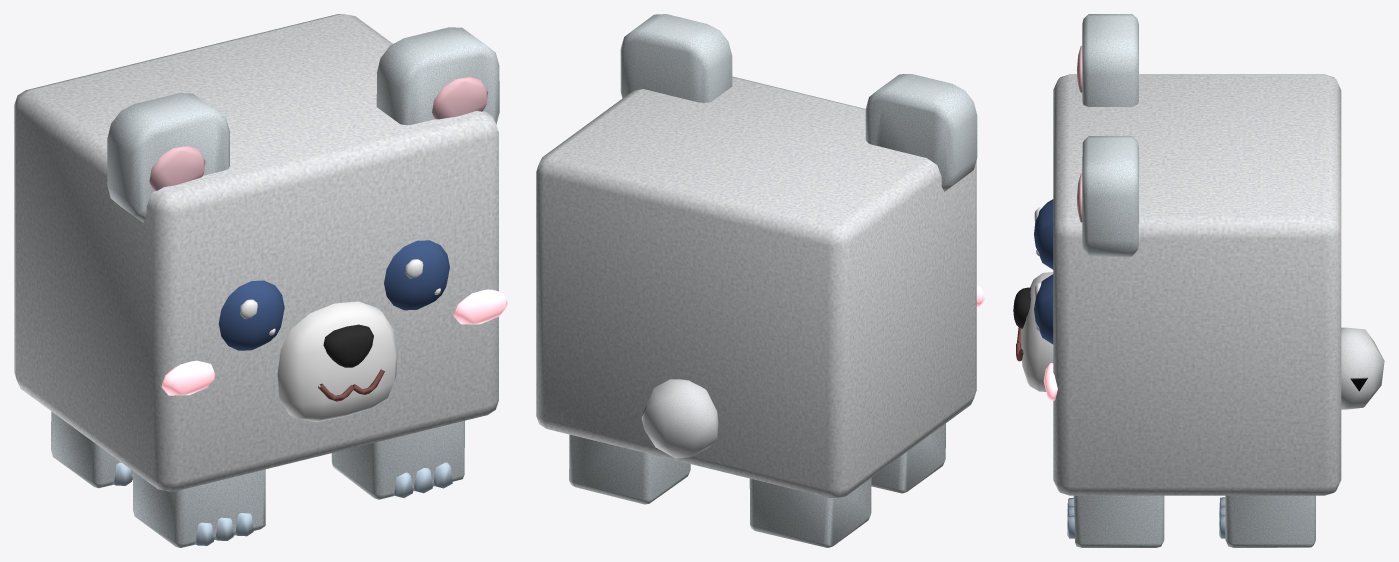
Rendered from Bear_Eisbaer.fbx.
3 renders of one model, left to right at view 1: azimuth 30°, elevation 25°; view 2: azimuth 150°, elevation 25°; view 3: azimuth 270°, elevation 25°, orthographic. The views are drawn at different scales.
Visible parts, largest first — view 1: Eisbaer_body, Eisbaer_ears, Eisbaer_feet, Eisbaer_muzzle, Eisbaer_eyes, Bear_Eisbaer, Eisbaer_toes, Bear_Eisbaer_cute_innerear_-1, Eisbaer_nose, Bear_Eisbaer_cute_blush_-1; view 2: Eisbaer_body, Eisbaer_ears, Eisbaer_feet, Bear_Eisbaer_cute_tail; view 3: Eisbaer_body, Eisbaer_ears, Eisbaer_feet, Bear_Eisbaer_cute_tail, Eisbaer_eyes, Eisbaer_muzzle, Bear_Eisbaer, Eisbaer_toes, Eisbaer_nose.
Boxes of the visible parts, bbox=[...] form: Eisbaer_body: bbox=[14, 14, 498, 491]; Eisbaer_ears: bbox=[107, 27, 499, 222]; Eisbaer_feet: bbox=[51, 411, 464, 547]; Eisbaer_muzzle: bbox=[277, 301, 397, 421]; Eisbaer_eyes: bbox=[218, 240, 449, 350]; Bear_Eisbaer: bbox=[405, 77, 507, 324]; Eisbaer_toes: bbox=[112, 462, 452, 545]; Bear_Eisbaer_cute_innerear_-1: bbox=[149, 146, 205, 191]; Eisbaer_nose: bbox=[323, 324, 373, 367]; Bear_Eisbaer_cute_blush_-1: bbox=[161, 360, 215, 395]; Eisbaer_body: bbox=[536, 76, 976, 498]; Eisbaer_ears: bbox=[620, 14, 977, 191]; Eisbaer_feet: bbox=[569, 423, 945, 547]; Bear_Eisbaer_cute_tail: bbox=[641, 379, 718, 458]; Eisbaer_body: bbox=[1053, 74, 1341, 495]; Eisbaer_ears: bbox=[1082, 14, 1138, 256]; Eisbaer_feet: bbox=[1073, 495, 1315, 547]; Bear_Eisbaer_cute_tail: bbox=[1341, 327, 1384, 409]; Eisbaer_eyes: bbox=[1034, 199, 1053, 344]; Eisbaer_muzzle: bbox=[1021, 272, 1053, 391]; Bear_Eisbaer: bbox=[1034, 173, 1082, 400]; Eisbaer_toes: bbox=[1067, 497, 1225, 538]; Eisbaer_nose: bbox=[1013, 287, 1030, 328].
Bounding box in the file's own units: 2.35 × 2.61 × 2.21.
Materials: 12 (4 with a texture image).
